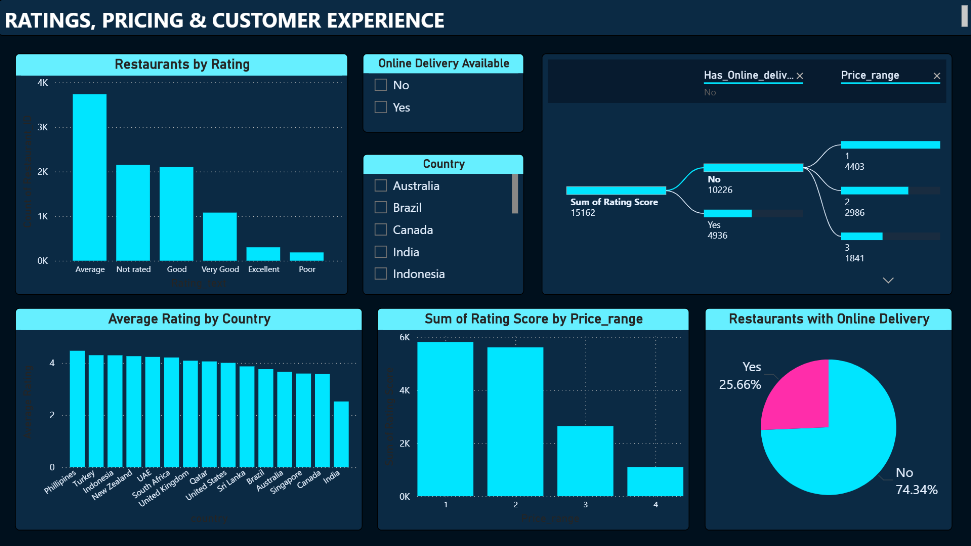

The dashboard page shown, as its layout file describes it:
{"tool":"powerbi","page":{"name":"Page 2","canvas":[1280,720],"ordinal":1},"visuals":[{"type":"textbox","box":[0,0,1280,48.1],"z":0},{"type":"clusteredColumnChart","title":"Restaurants by Rating","fields":{"Category":["zomato_analysis restaurant.Rating_text"],"Y":["CountNonNull(zomato_analysis restaurant.Restaurant_ID)"]},"box":[21.9,71.4,437.4,316.4],"z":1000},{"type":"clusteredColumnChart","title":"Average Rating by Country","fields":{"Category":["zomato_analysis country.country"],"Y":["zomato_analysis restaurant.Average Rating"]},"box":[21.9,405.3,456.3,291.6],"z":2000},{"type":"clusteredColumnChart","fields":{"Category":["zomato_analysis restaurant.Price_range"],"Y":["Sum(zomato_analysis restaurant.Rating Score)"]},"box":[497.1,405.3,409.7,291.6],"z":3000},{"type":"slicer","title":"Online Delivery Available ","fields":{"Values":["zomato_analysis restaurant.Has_Online_delivery"]},"box":[478.2,71.4,211.4,103.5],"z":4000},{"type":"pieChart","title":"Restaurants with Online Delivery","fields":{"Category":["zomato_analysis restaurant.Has_Online_delivery"],"Y":["CountNonNull(zomato_analysis restaurant.Restaurant_ID)"]},"box":[927.2,405.3,325.1,291.6],"z":5000},{"type":"decompositionTreeVisual","fields":{"Analyze":["Sum(zomato_analysis restaurant.Rating Score)"],"ExplainBy":["zomato_analysis restaurant.Has_Online_delivery","zomato_analysis restaurant.Price_range"]},"box":[712.9,71.4,539.4,316.4],"z":6000},{"type":"slicer","title":"Country","fields":{"Values":["zomato_analysis country.country"]},"box":[478.2,202.6,211.4,185.1],"z":7000}]}

Visuals, with their boxes in screenshot pixels (x1, y1, x2, y2), scaled from the page's 1280x720 canvas onto the 971x546 screenshot:
textbox: box=[0, 0, 970, 36]
"Restaurants by Rating" clusteredColumnChart: box=[17, 54, 348, 294]
"Average Rating by Country" clusteredColumnChart: box=[17, 307, 363, 528]
clusteredColumnChart - zomato_analysis restaurant.Price_range x Sum(zomato_analysis restaurant.Rating Score): box=[377, 307, 688, 528]
"Online Delivery Available " slicer: box=[363, 54, 523, 133]
"Restaurants with Online Delivery" pieChart: box=[703, 307, 950, 528]
decompositionTreeVisual - Sum(zomato_analysis restaurant.Rating Score) x zomato_analysis restaurant.Has_Online_delivery: box=[541, 54, 950, 294]
"Country" slicer: box=[363, 154, 523, 294]
